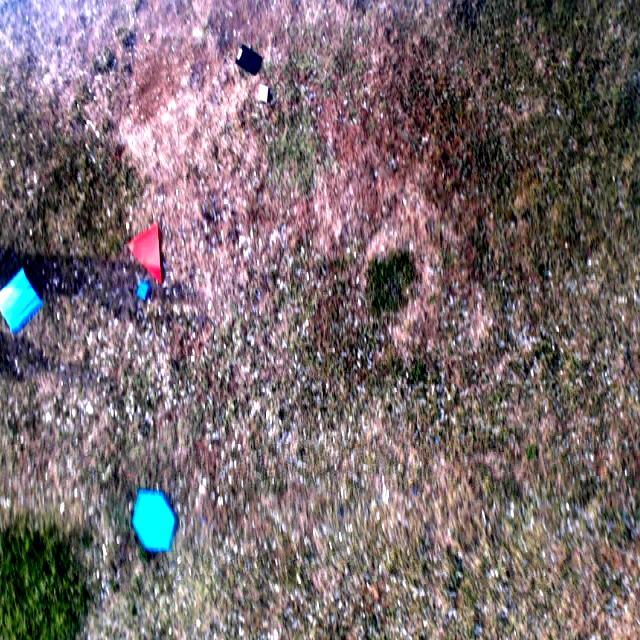blue_hexagon: (134, 492, 175, 551)
red_triangle: (128, 221, 162, 286)
